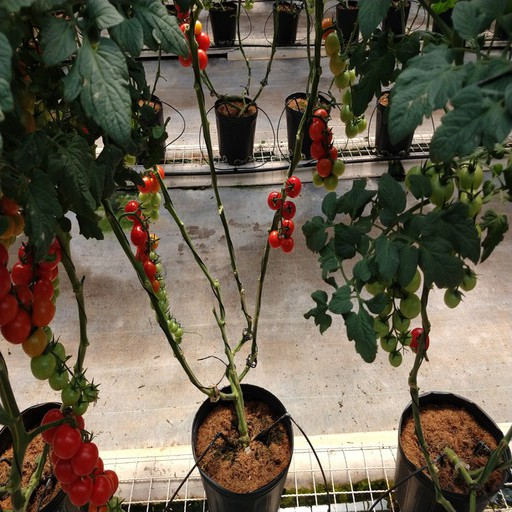green tomato bunch: (407, 152, 483, 301), (365, 255, 423, 368), (316, 23, 368, 136)
mixed tomato bunch: (124, 200, 184, 345), (135, 165, 165, 223)
red tomato bunch: (1, 189, 62, 359), (40, 407, 125, 512), (310, 107, 345, 191), (169, 1, 210, 70), (268, 177, 304, 253)
